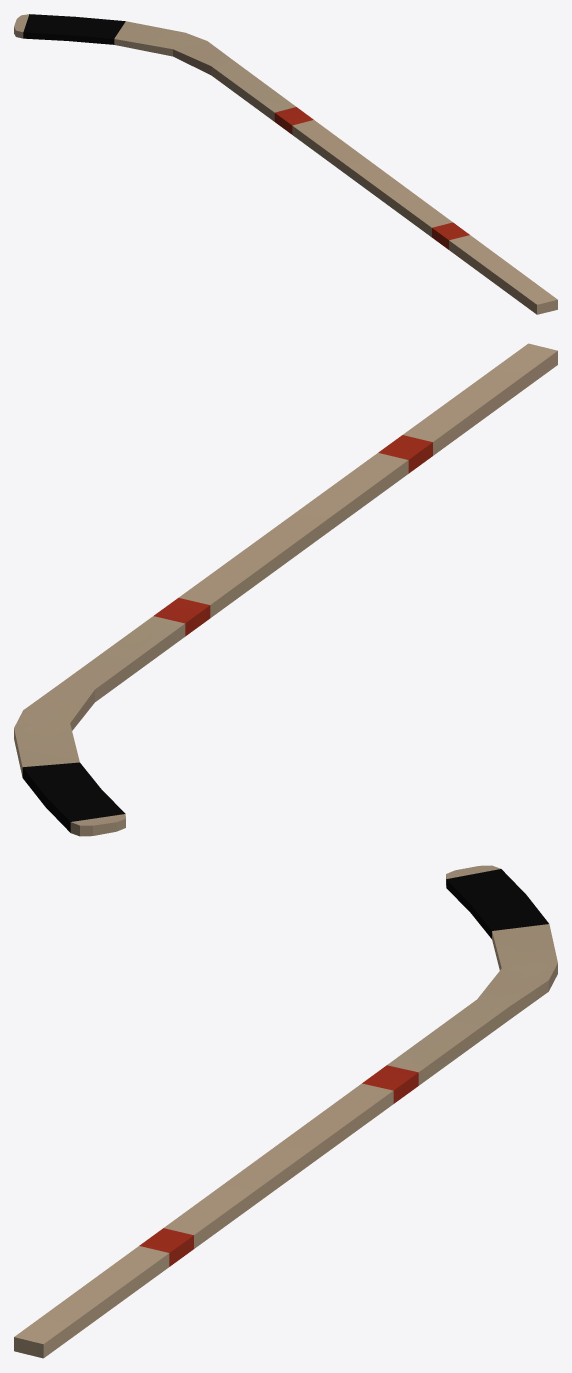
File: Hockey Stick.glb
3 renders of one model, top to bottom at view 1: azimuth 30°, elevation 25°; view 2: azimuth 150°, elevation 25°; view 3: azimuth 330°, elevation 25°, orthographic. The views are drawn at different scales.
Parts seen in each view (by area): view 1: Hockey_Stick; view 2: Hockey_Stick; view 3: Hockey_Stick.
Part boxes in pixels (x1,y1,x2,y2): Hockey_Stick: (14, 14, 557, 314); Hockey_Stick: (14, 343, 557, 836); Hockey_Stick: (14, 865, 557, 1358).
Size of the model in its own units: 0.4651 by 0.0338 by 2.6.
1 material, 1 textured.
